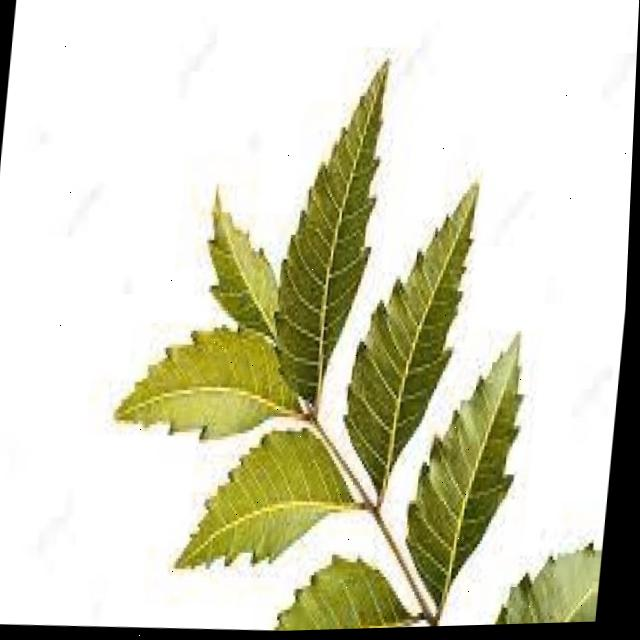Wet: (118, 64, 530, 574)
